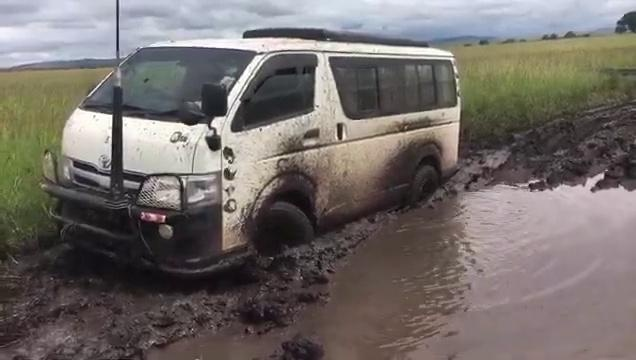van: (46, 28, 472, 265)
